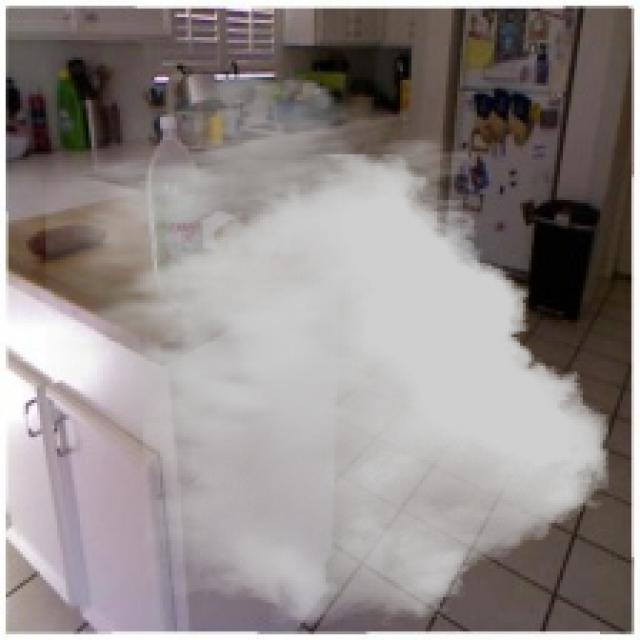smoke: (46, 74, 608, 626)
